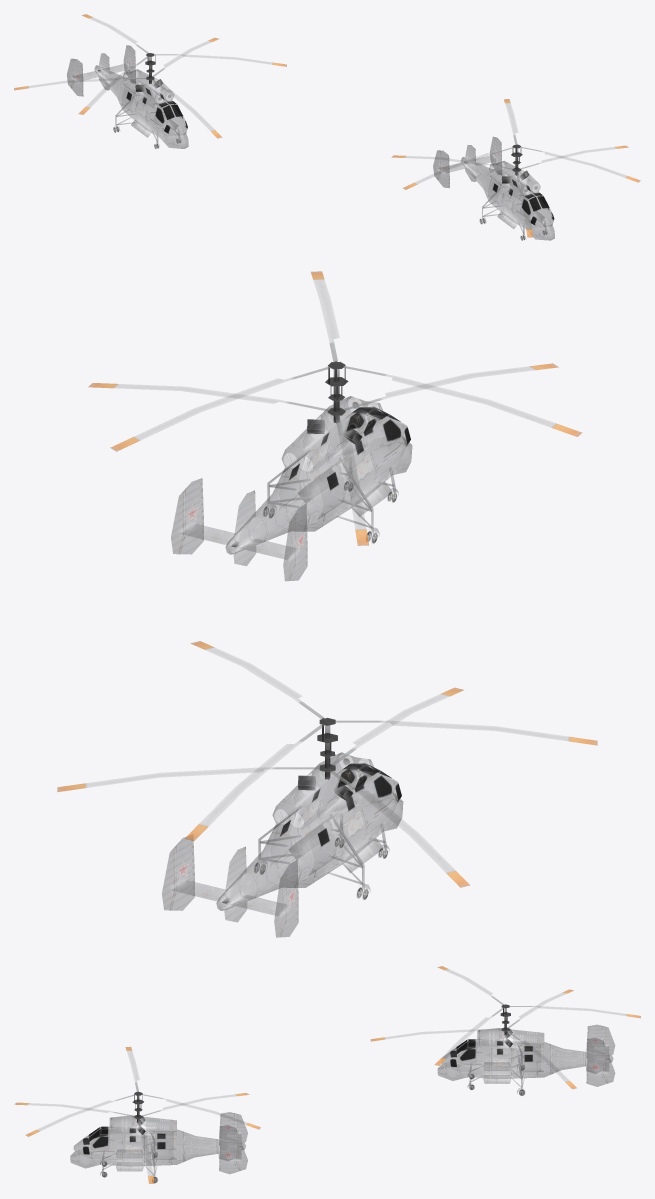
Rendered from helicoptercruiser.glb.
The picture shows the model from 3 angles, top to bottom: view 1: azimuth 30°, elevation 25°; view 2: azimuth 150°, elevation 25°; view 3: azimuth 270°, elevation 25°; orthographic projection. The views are drawn at different scales.
Visible parts, largest first — view 1: moskva.006, moskva.003; view 2: moskva.006, moskva.003; view 3: moskva.003, moskva.006.
Part boxes in pixels (bbox=[...]): moskva.006: bbox=[14, 14, 286, 148]; moskva.003: bbox=[391, 99, 640, 240]; moskva.006: bbox=[57, 641, 597, 937]; moskva.003: bbox=[88, 271, 581, 580]; moskva.003: bbox=[14, 1047, 260, 1183]; moskva.006: bbox=[370, 966, 640, 1095].
Bounding box in the file's own units: 3.73 × 0.708 × 5.07.
1 material, 1 textured.
